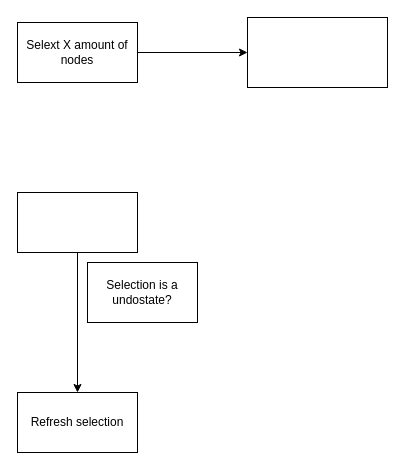
Image size: 405x470. Some labels were removed from this diagram. Here are the shapes that lost their labels. From the top down, the centre of each, then its label:
At [317,52]: "Hold ids (NodeSelectionHandler)".
At [77,222]: "Undo".
